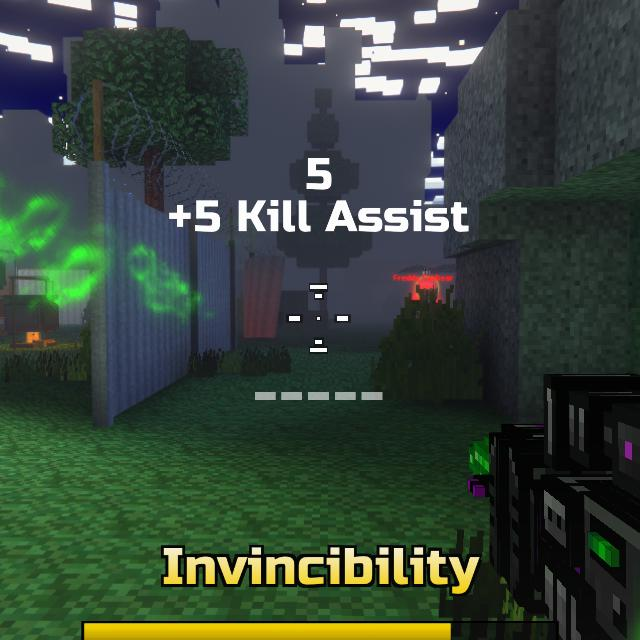Enemy: (409, 287, 440, 302)
